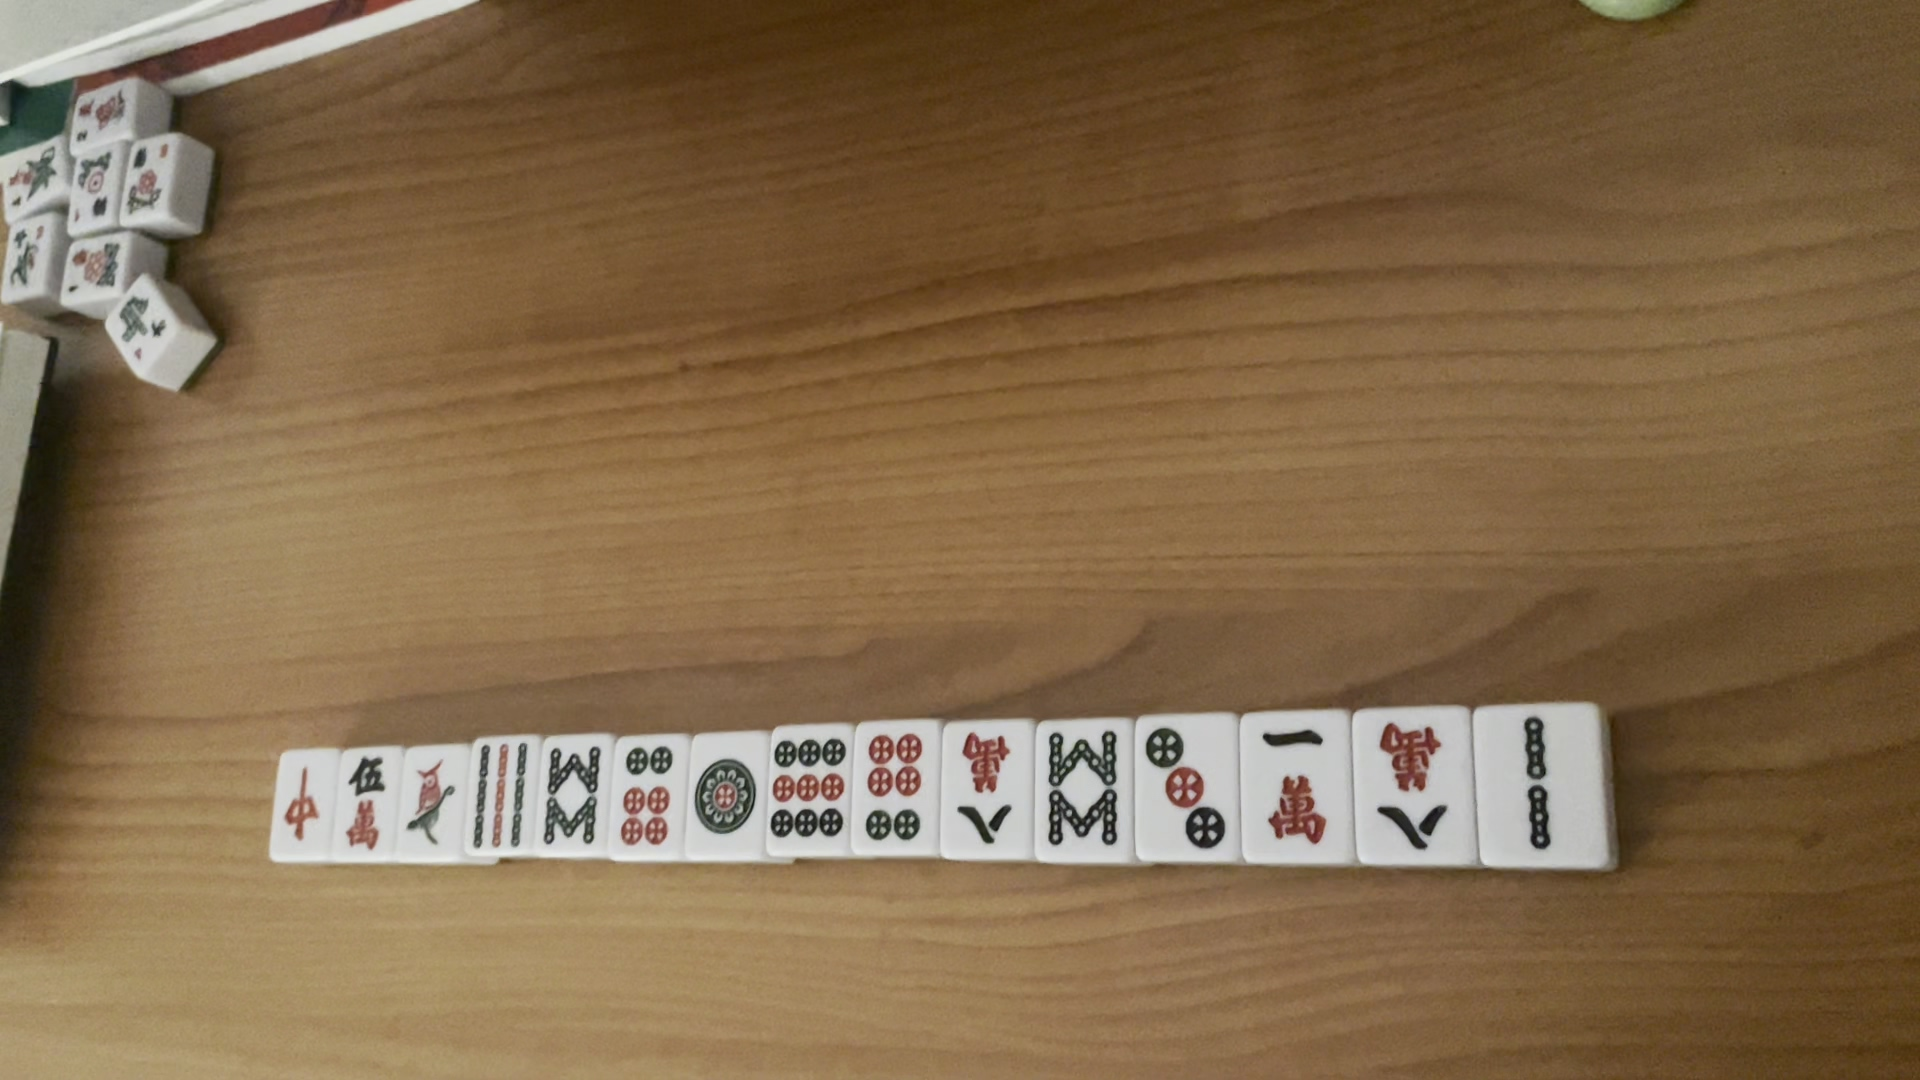b-1: (404, 756, 460, 847)
b-2: (1490, 709, 1589, 855)
b-8: (1040, 723, 1125, 856), (539, 744, 607, 847)
b-9: (469, 740, 535, 857)
c-1: (1245, 724, 1348, 855)
c-5: (339, 753, 392, 855)
c-8: (1367, 719, 1457, 855), (949, 727, 1021, 852)
d-1: (688, 756, 765, 835)
d-3: (1141, 725, 1236, 847)
d-6: (858, 727, 928, 851), (618, 744, 674, 851)
d-9: (771, 735, 851, 843)
honors-red: (276, 764, 323, 847)
